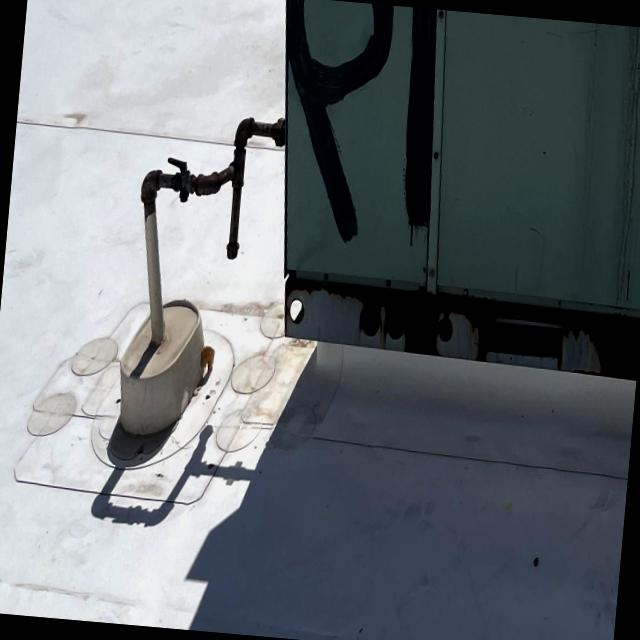RTU: (233, 0, 640, 429)
